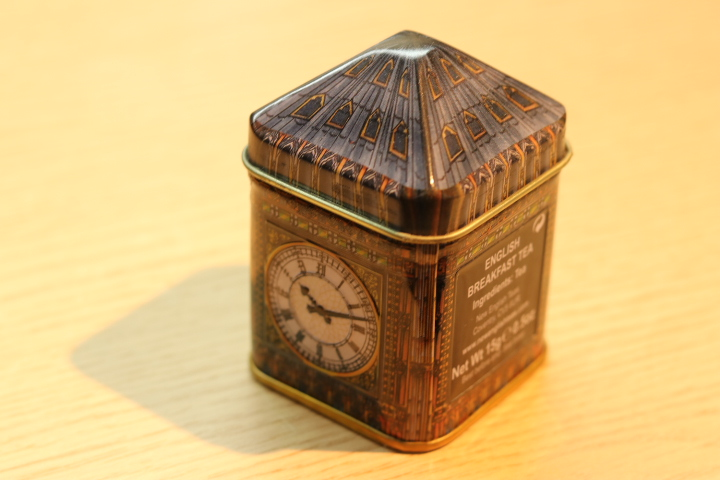Big Ben: (221, 21, 592, 454)
